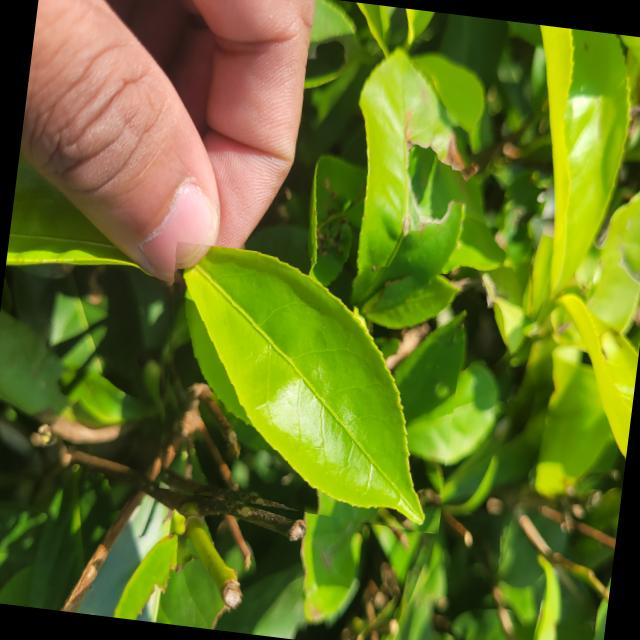Catagory A 1-2 days: (143, 242, 468, 536)
